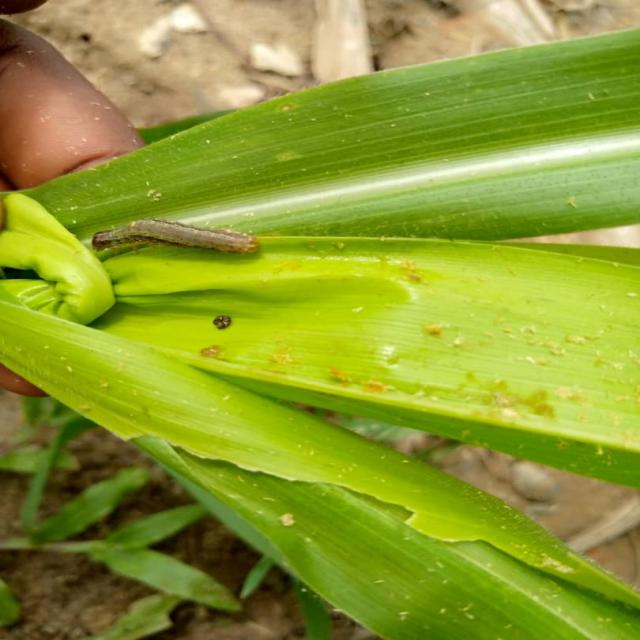yellow-stem-borer-larva: (75, 190, 257, 268)
